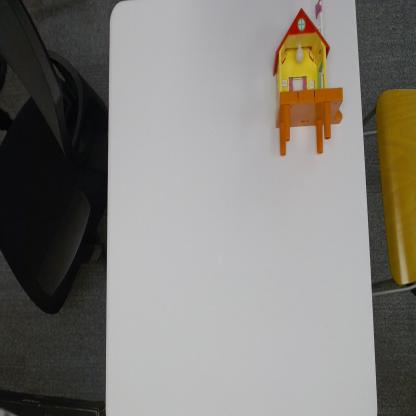House: (274, 0, 345, 158)
